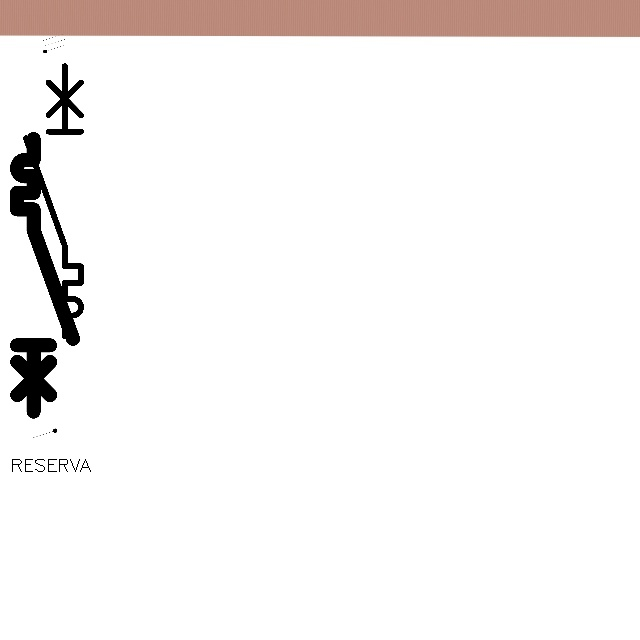interruptor_termomagnetico: (10, 132, 80, 418), (19, 59, 88, 343)
